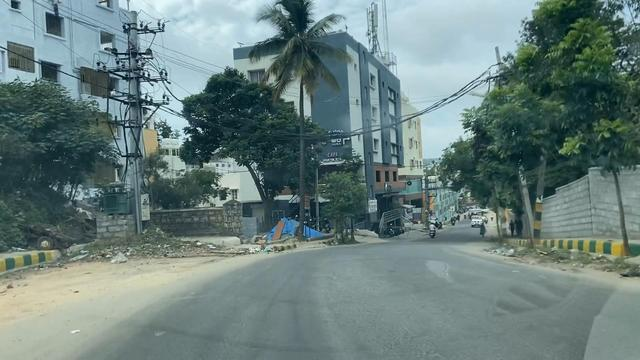RoadDamages: (416, 246, 465, 292)
